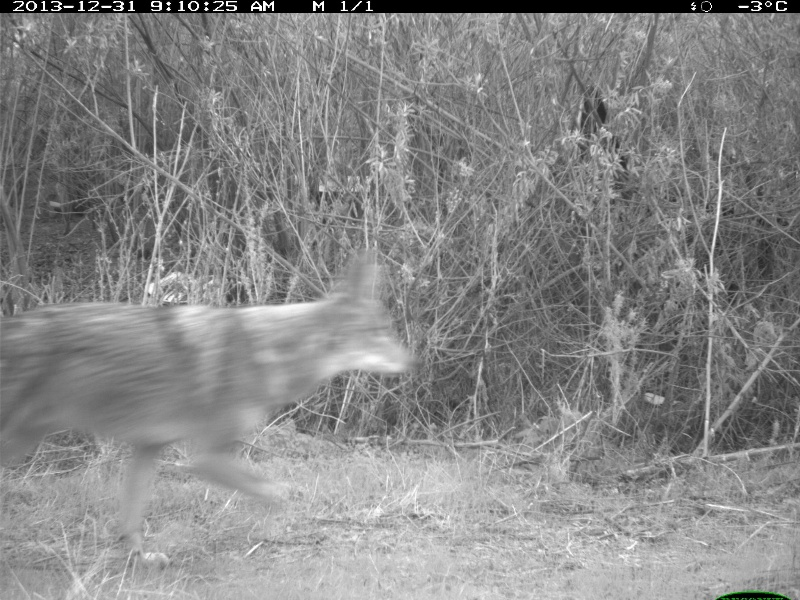coyote: (1, 257, 421, 561)
